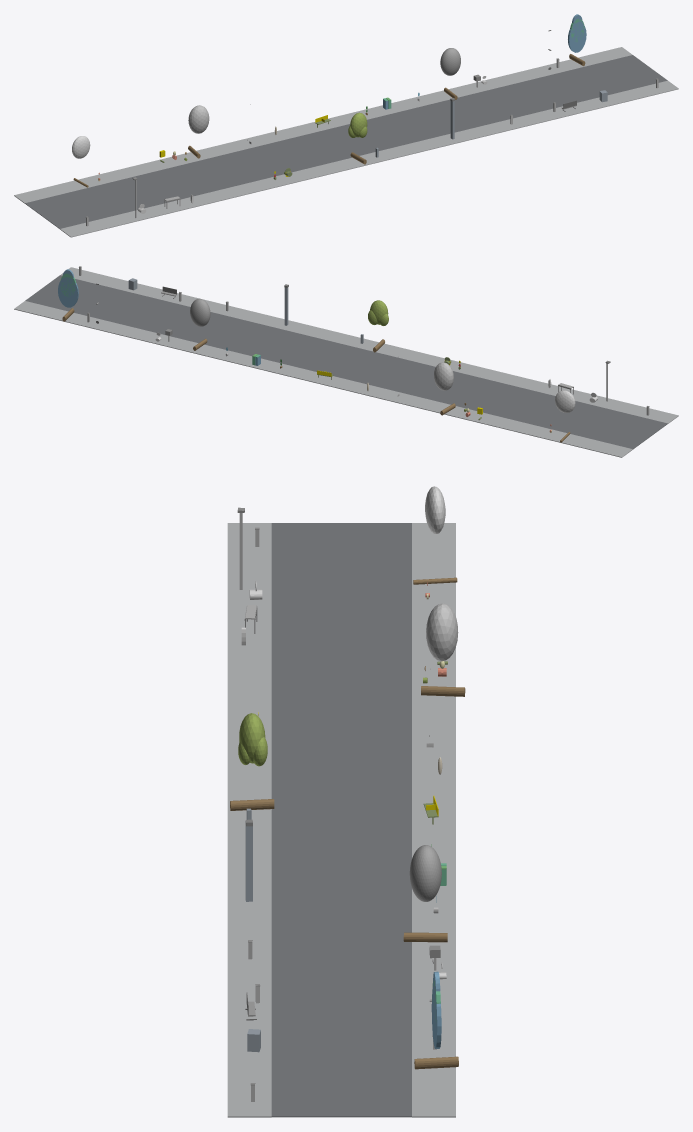
3 views of the same model, one above another, from view 1: azimuth 30°, elevation 25°; view 2: azimuth 150°, elevation 25°; view 3: azimuth 270°, elevation 25° (orthographic). The views are drawn at different scales.
Visible parts, largest first — view 1: road_slab, sidewalk_left, sidewalk_right, inst_0016, inst_0013, inst_0015, inst_0014, inst_0012; view 2: road_slab, sidewalk_right, sidewalk_left, inst_0016, inst_0013, inst_0015, inst_0014, inst_0012; view 3: road_slab, sidewalk_left, sidewalk_right, inst_0013, inst_0015, inst_0014, inst_0016, inst_0012.
Boxes of the visible parts, x1=… form: road_slab: x1=25, y1=55, x2=667, y2=228; sidewalk_left: x1=60, y1=80, x2=678, y2=237; sidewalk_right: x1=14, y1=47, x2=632, y2=203; inst_0016: x1=568, y1=14, x2=586, y2=66; inst_0013: x1=188, y1=105, x2=209, y2=158; inst_0015: x1=440, y1=48, x2=460, y2=99; inst_0014: x1=348, y1=112, x2=367, y2=164; inst_0012: x1=72, y1=136, x2=90, y2=187; road_slab: x1=25, y1=275, x2=667, y2=449; sidewalk_right: x1=14, y1=301, x2=632, y2=457; sidewalk_left: x1=60, y1=267, x2=678, y2=423; inst_0016: x1=58, y1=269, x2=78, y2=321; inst_0013: x1=434, y1=362, x2=455, y2=415; inst_0015: x1=190, y1=298, x2=210, y2=350; inst_0014: x1=368, y1=300, x2=388, y2=352; inst_0012: x1=555, y1=390, x2=575, y2=442; road_slab: x1=271, y1=523, x2=411, y2=1117; sidewalk_left: x1=227, y1=523, x2=271, y2=1117; sidewalk_right: x1=412, y1=523, x2=455, y2=1117; inst_0013: x1=421, y1=603, x2=465, y2=696; inst_0015: x1=403, y1=845, x2=447, y2=942; inst_0014: x1=230, y1=713, x2=274, y2=810; inst_0016: x1=414, y1=971, x2=458, y2=1069; inst_0012: x1=413, y1=486, x2=457, y2=584.
Size of the model in its own units: 80 by 6.08 by 13.53.
